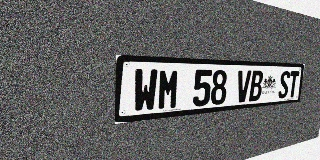5: (192, 70, 212, 107)
8: (210, 70, 228, 105)
B: (249, 70, 264, 101)
M: (157, 69, 180, 110)
S: (278, 71, 290, 99)
T: (287, 71, 299, 98)
V: (235, 70, 251, 103)
W: (133, 69, 158, 113)
